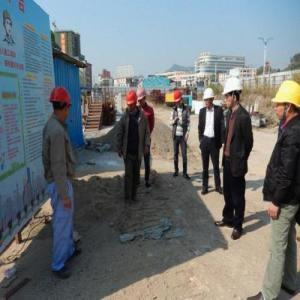red: (49, 85, 74, 124), (126, 91, 138, 113), (174, 90, 184, 109), (138, 89, 148, 107)
white: (224, 77, 243, 111), (203, 87, 216, 110)
yellow: (273, 81, 300, 128)
